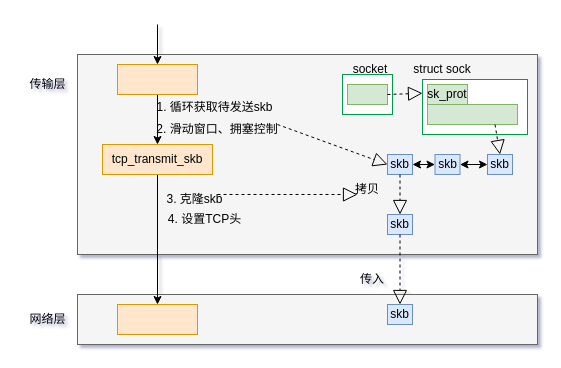
The diagram is 561 pixels wide and 368 high, and some of its shapes have lost their labels. The shapes that lost their labels are listed below. From the top down, each one's centre as x and y in pixels, then its label:
At (157,79): "tcp_write_xmit".
At (367,94): "*sk".
At (472,114): "sk_write_queue".
At (157,319): "ip_queue_xmit".
